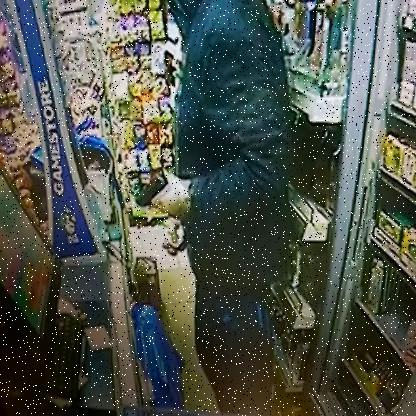pistol: (132, 172, 173, 208)
